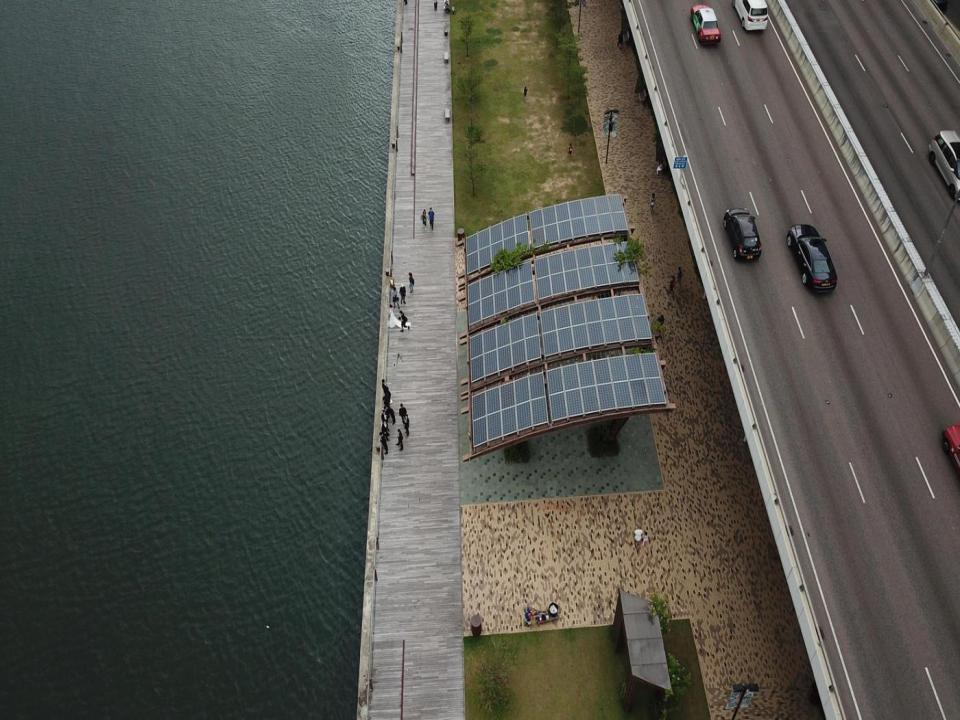car: (786, 223, 838, 295), (926, 124, 960, 202), (726, 204, 762, 261), (689, 2, 723, 47), (732, 0, 772, 32)
